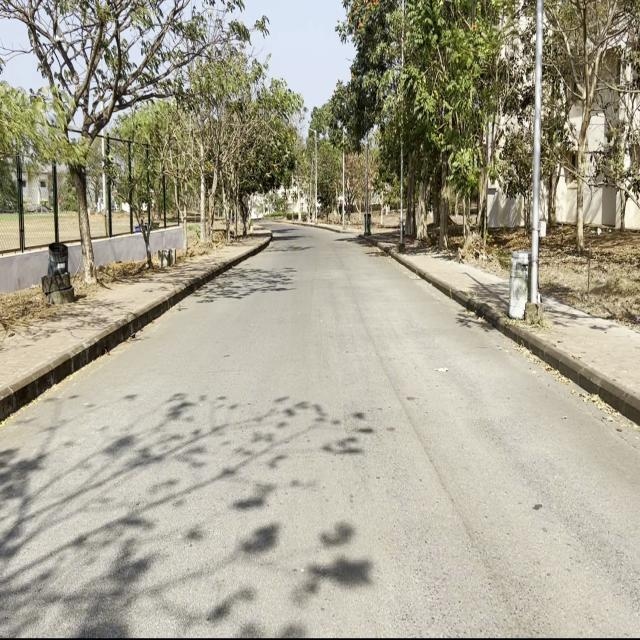Road: (2, 225, 638, 631)
